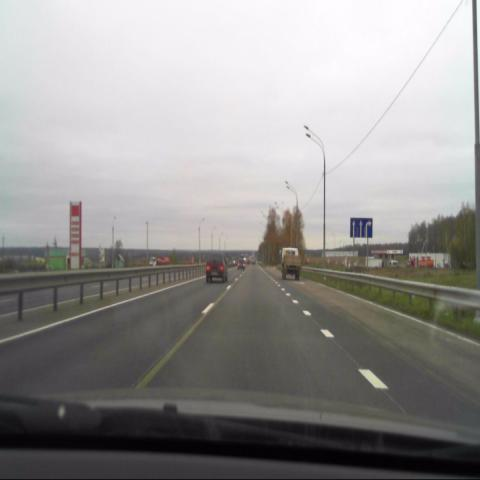5_15_1: (349, 215, 373, 239)
